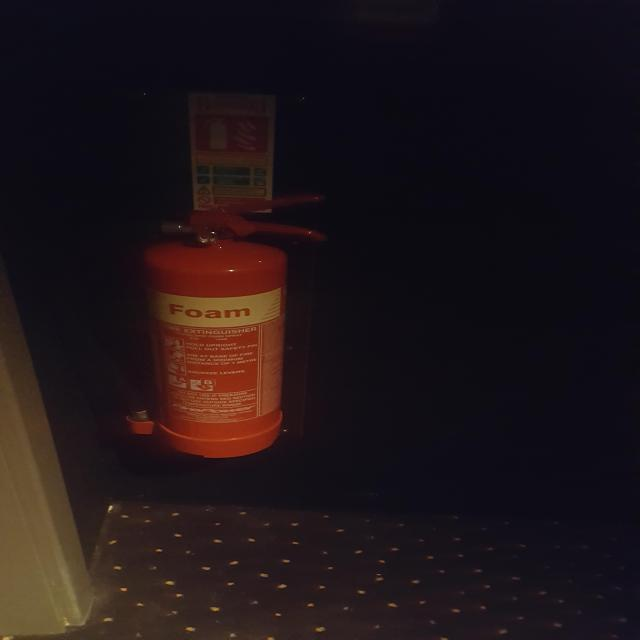fire_extinguisher: (133, 190, 333, 462)
